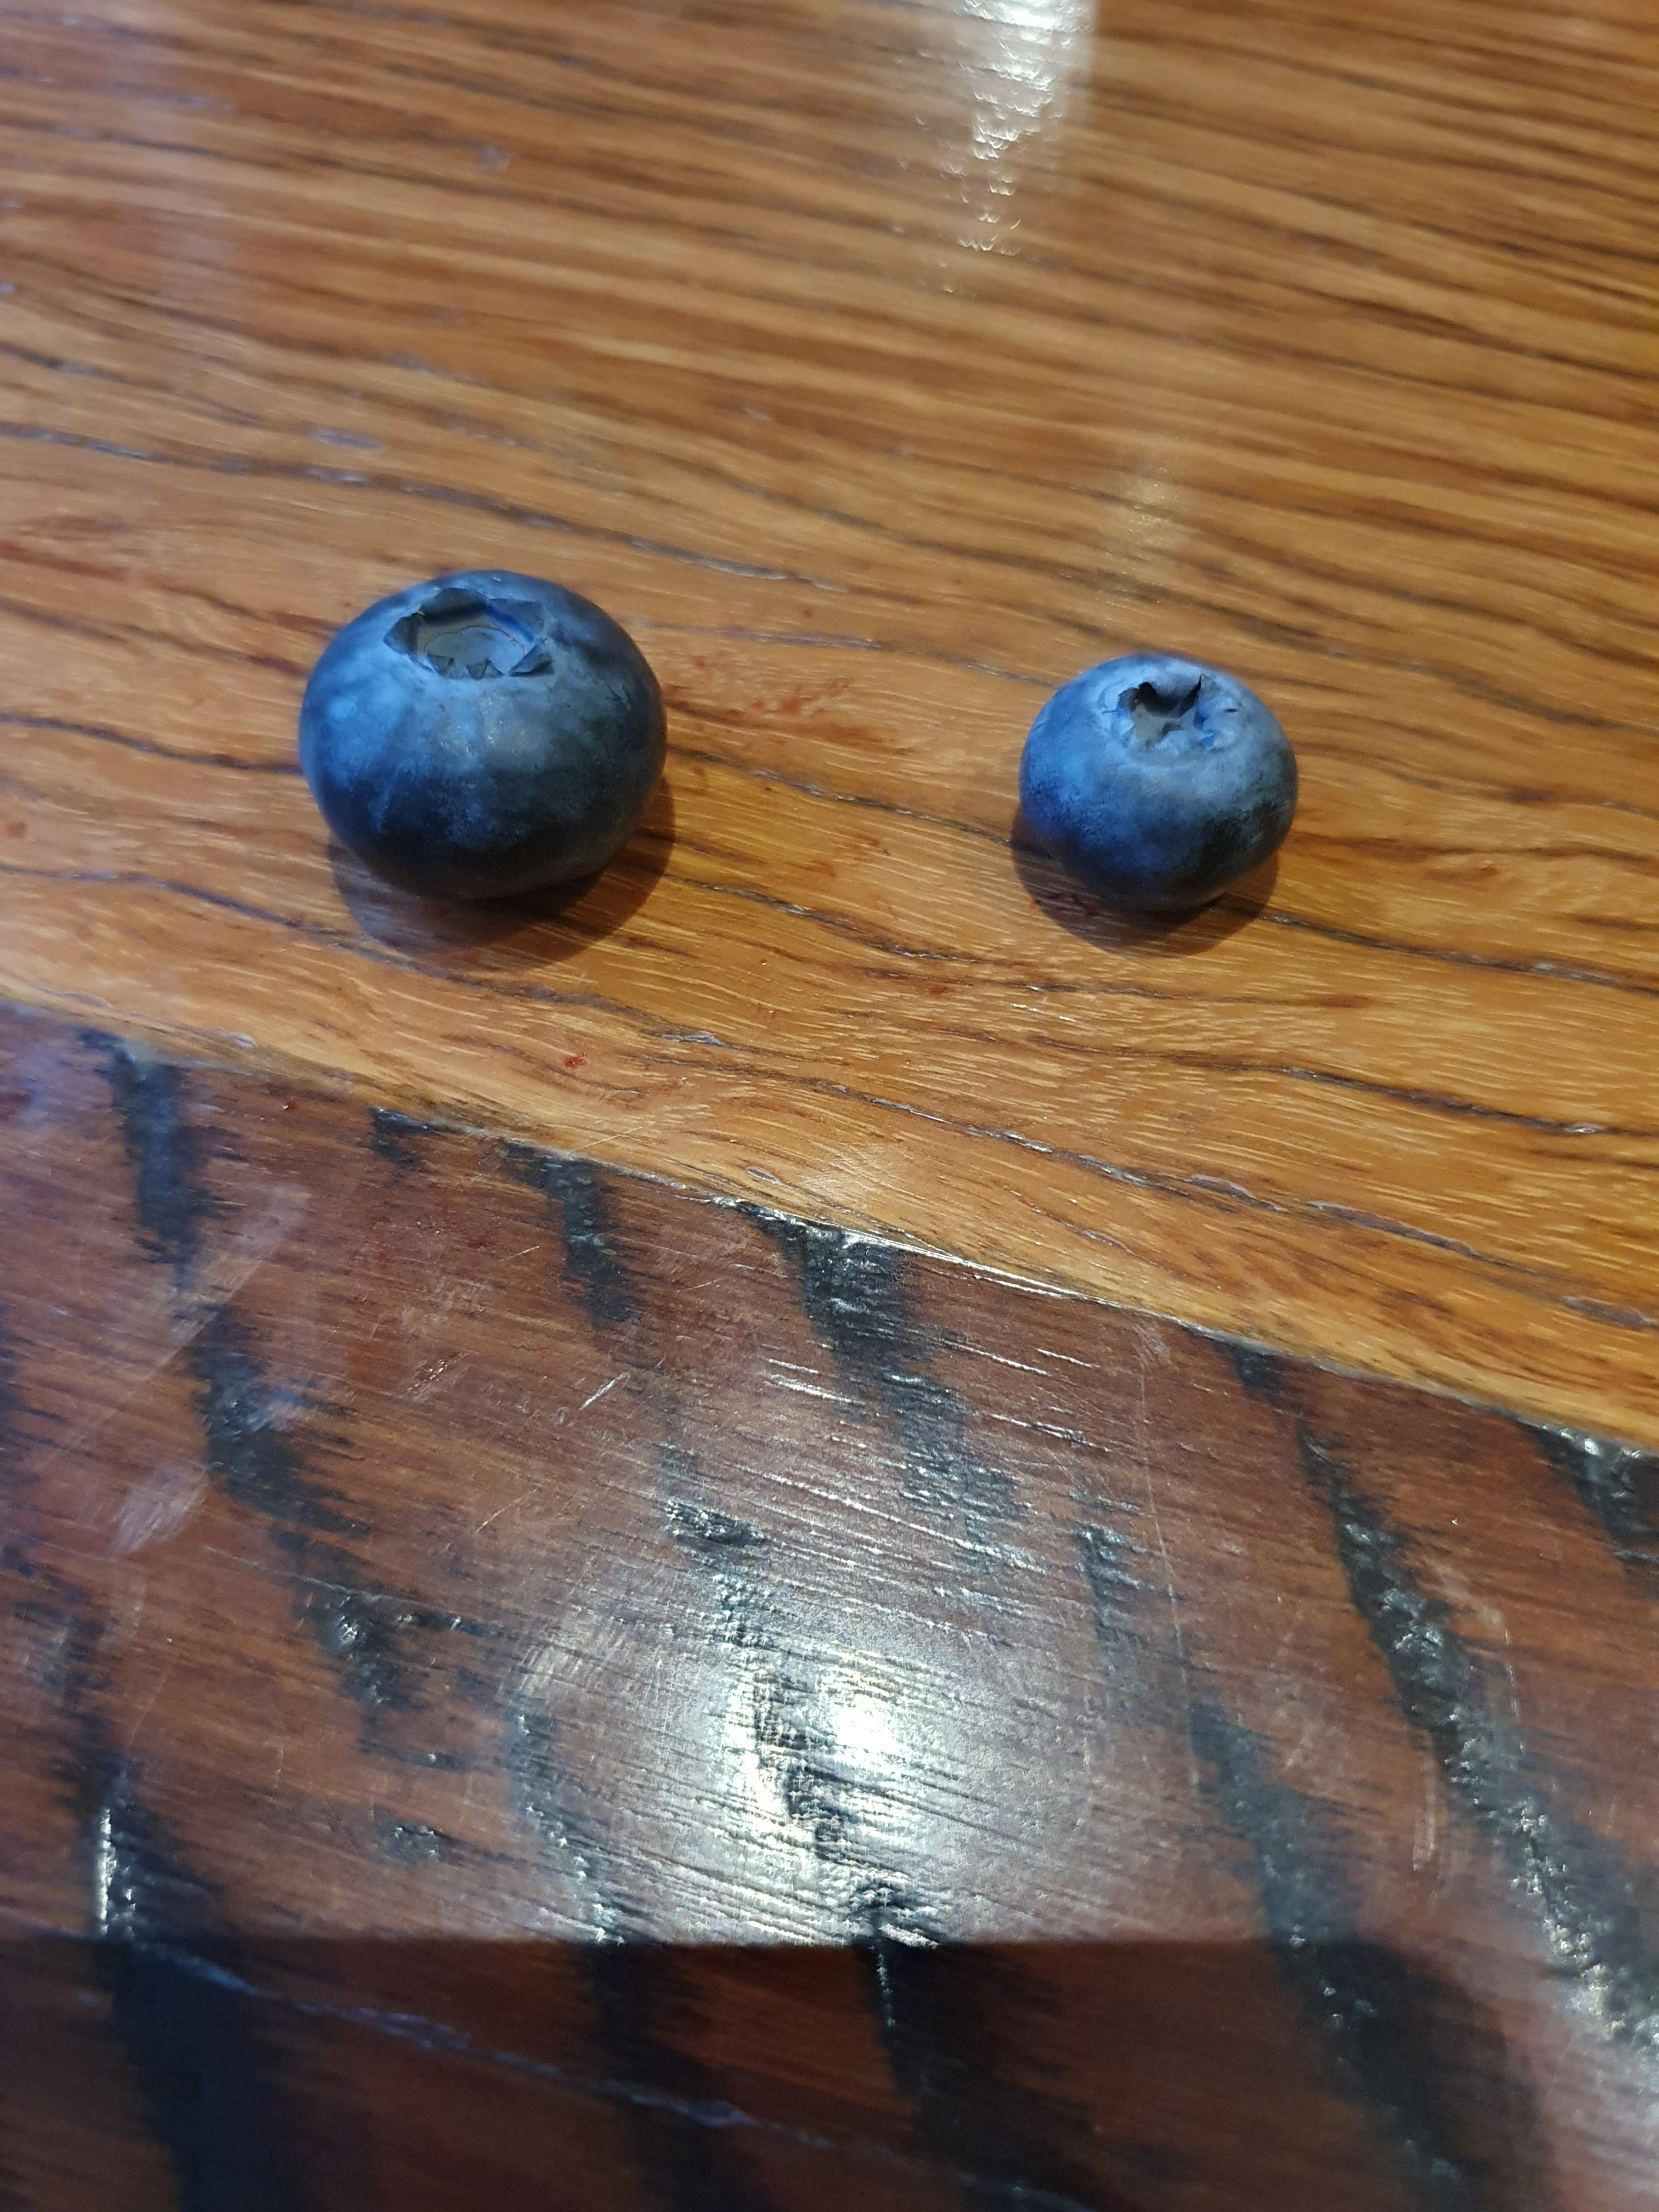blueberry: (247, 517, 690, 932), (981, 632, 1309, 949)
